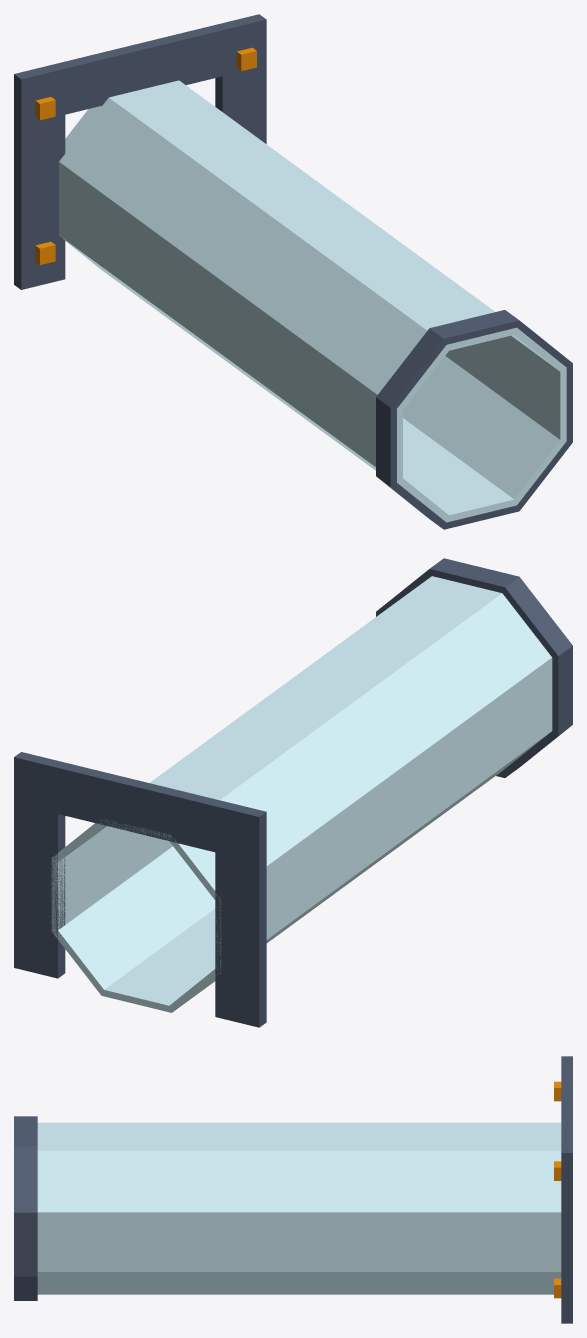
Rendered from SM_RatTube_Wall_Flange.glb.
The picture shows the model from 3 angles, top to bottom: view 1: azimuth 30°, elevation 25°; view 2: azimuth 150°, elevation 25°; view 3: azimuth 270°, elevation 25°; orthographic projection. The views are drawn at different scales.
Parts seen in each view (by area): view 1: SM_RatTube_Wall_Flange-col; view 2: SM_RatTube_Wall_Flange-col; view 3: SM_RatTube_Wall_Flange-col.
Boxes of the visible parts, x1,y1,x2,y2 form: SM_RatTube_Wall_Flange-col: (14, 14, 572, 529); SM_RatTube_Wall_Flange-col: (14, 558, 572, 1027); SM_RatTube_Wall_Flange-col: (14, 1056, 572, 1323).
Bounding box in the file's own units: 0.78 × 0.68 × 1.9.
